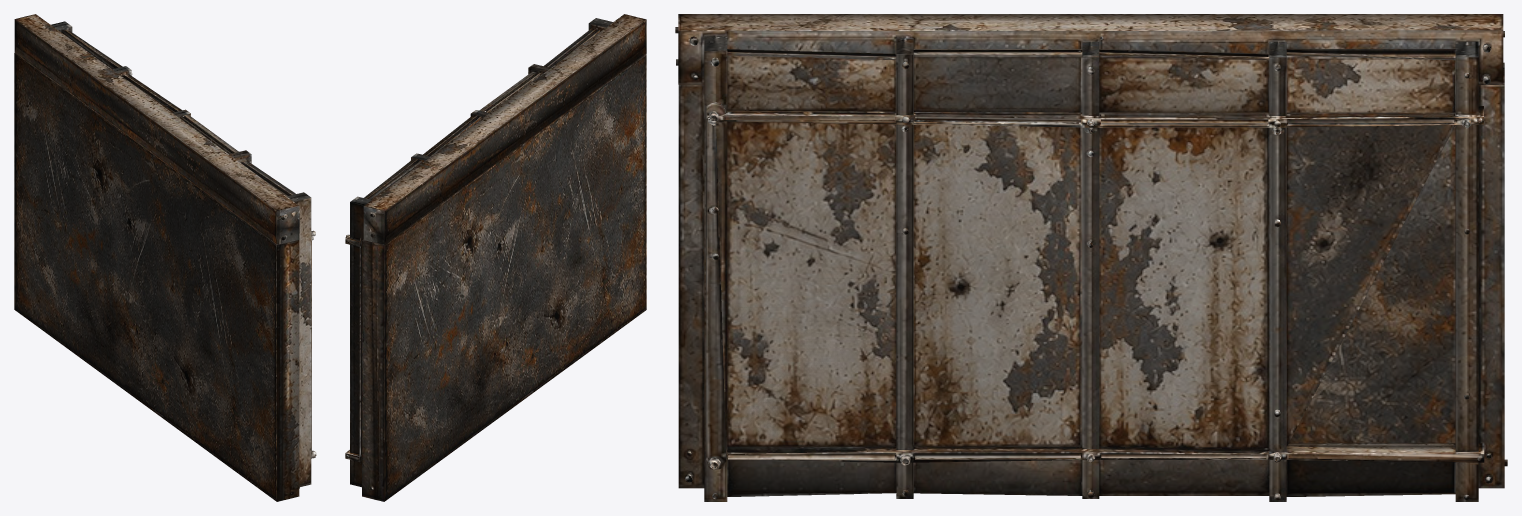
Rendered from Kitchen Walls - Heavily Damaged.glb.
The picture shows the model from 3 angles, left to right: view 1: azimuth 30°, elevation 25°; view 2: azimuth 150°, elevation 25°; view 3: azimuth 270°, elevation 25°; orthographic projection. The views are drawn at different scales.
Visible parts, largest first — view 1: tripo_5295d674_dca2_4971_a5c3_62d0854f510e; view 2: tripo_5295d674_dca2_4971_a5c3_62d0854f510e; view 3: tripo_5295d674_dca2_4971_a5c3_62d0854f510e.
Part boxes in pixels (<box>): tripo_5295d674_dca2_4971_a5c3_62d0854f510e: <box>14,14,316,501</box>; tripo_5295d674_dca2_4971_a5c3_62d0854f510e: <box>345,14,646,501</box>; tripo_5295d674_dca2_4971_a5c3_62d0854f510e: <box>675,14,1507,501</box>.
Size of the model in its own units: 0.1089 by 0.606 by 0.9995.
Materials: 1 (1 with a texture image).
